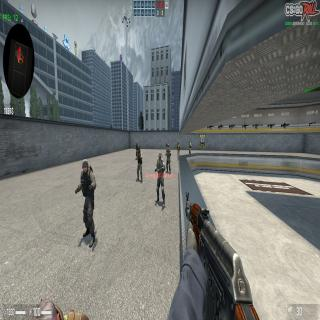CT-Body: (76, 160, 96, 248), (155, 151, 165, 207), (136, 146, 142, 183), (165, 144, 171, 175), (188, 141, 192, 154), (135, 142, 138, 159)
CT-Head: (82, 159, 89, 174), (158, 151, 162, 162), (167, 144, 169, 150), (138, 146, 140, 152), (136, 142, 138, 146), (178, 141, 178, 143), (190, 141, 190, 144)
T-Body: (177, 143, 180, 161)
T-Head: (27, 299, 59, 320), (166, 141, 168, 144), (178, 142, 179, 146)
